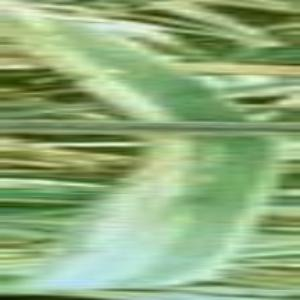Bacterial_Blight: (91, 35, 271, 294)
